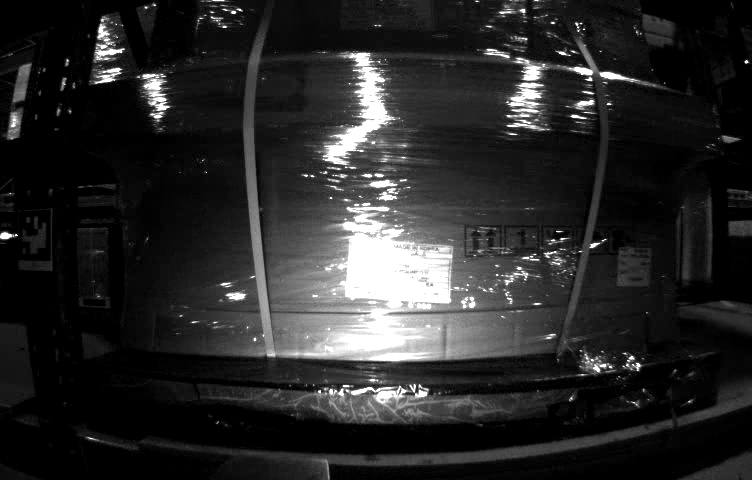True Barcode: (618, 244, 652, 289)
